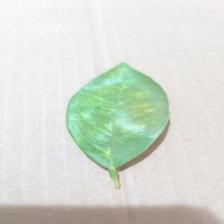greening: (62, 58, 175, 194)
